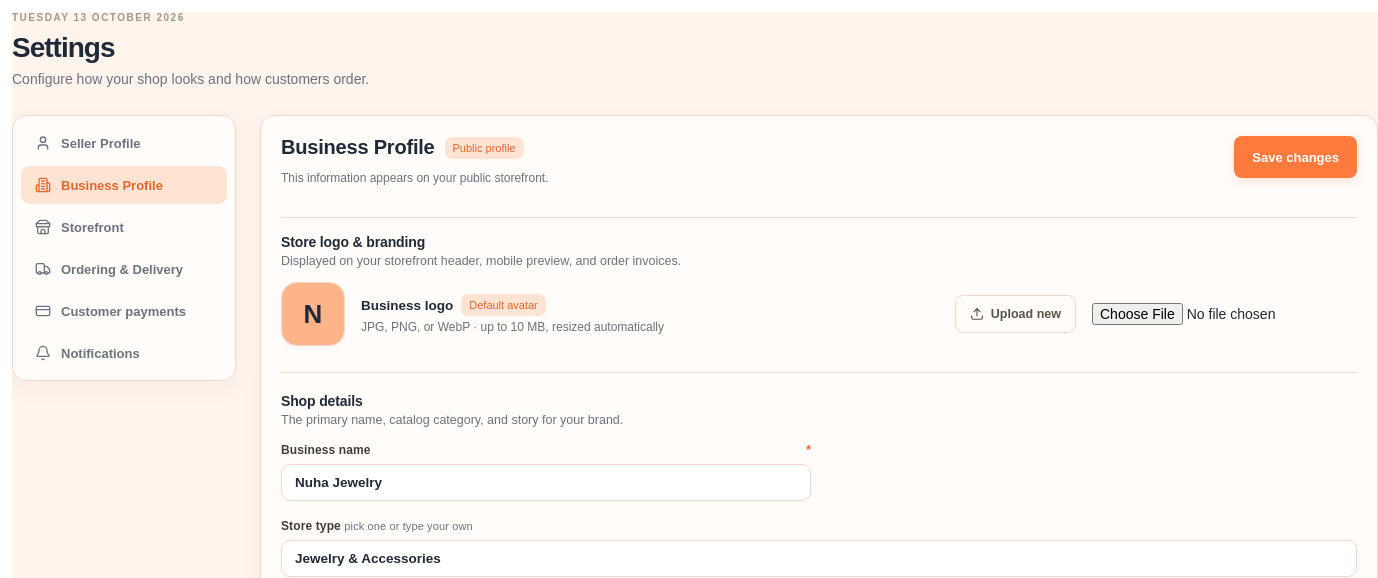
Scenario: Settings tabs › keeps a business-save error off the Seller Profile tab
Click the button "Save changes" at [1296, 157], box [1234,136,1357,178]
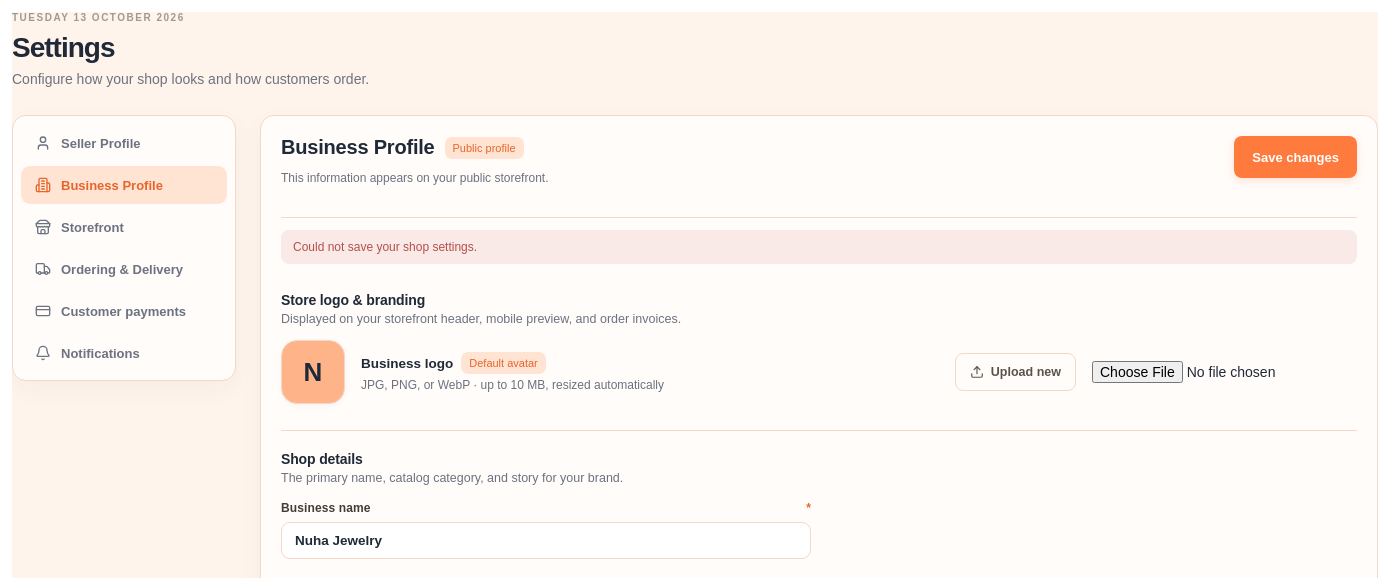
Expected: the text "Could not save your shop settings." is shown, [281,230,1357,264]
Click the button "Seller Profile" at [124, 143], box [21,124,227,162]
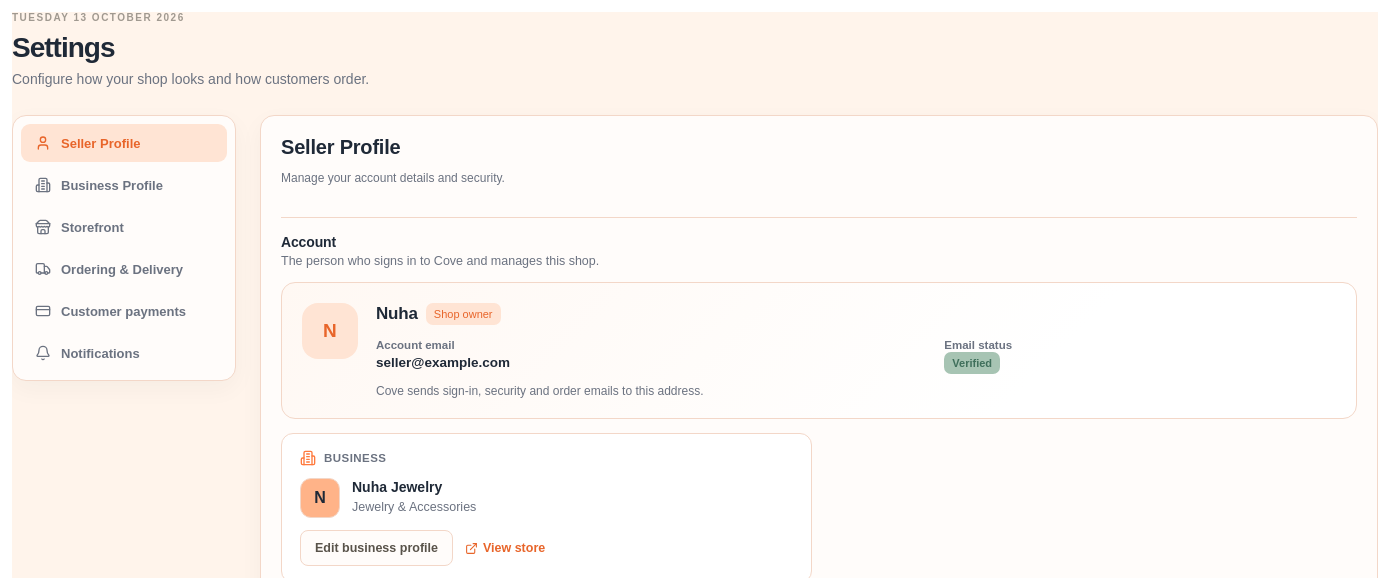
Expected: the text "Could not save your shop settings." is gone
Click the button "Business Profile" at [124, 185], box [21,166,227,204]
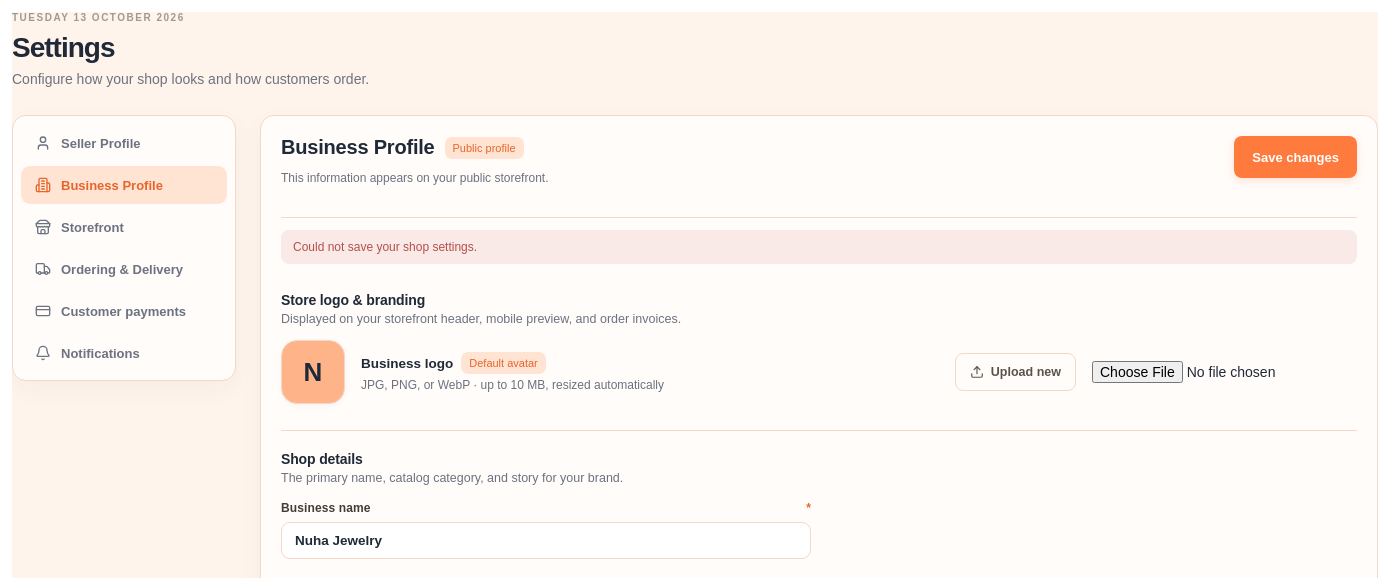
Expected: the text "Could not save your shop settings." is shown, [281,230,1357,264]
